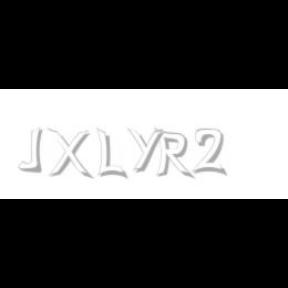2: (191, 128, 225, 176)
J: (18, 128, 42, 172)
L: (97, 128, 125, 180)
R: (154, 128, 192, 180)
X: (47, 128, 91, 180)
y: (127, 128, 167, 172)
